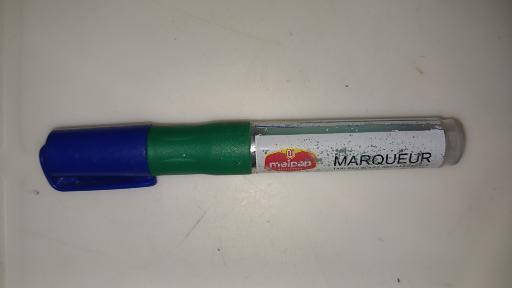Whiteboard marker: (38, 116, 465, 191)
